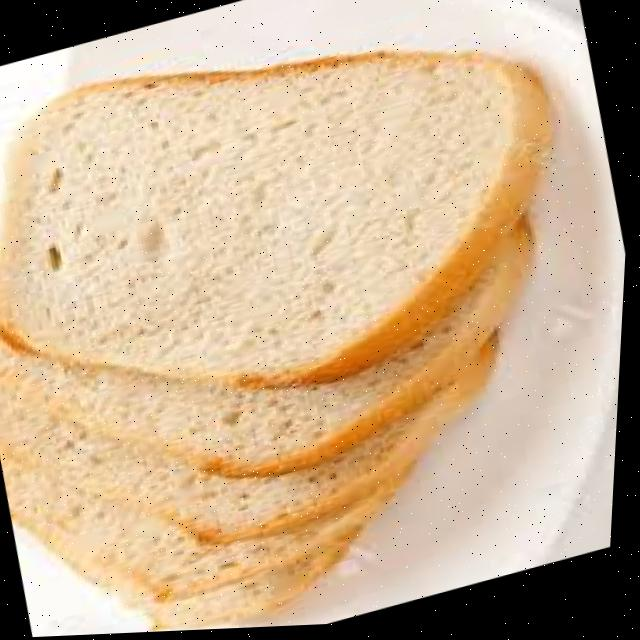Bread: (0, 61, 510, 374), (0, 342, 492, 629), (0, 251, 523, 476)
